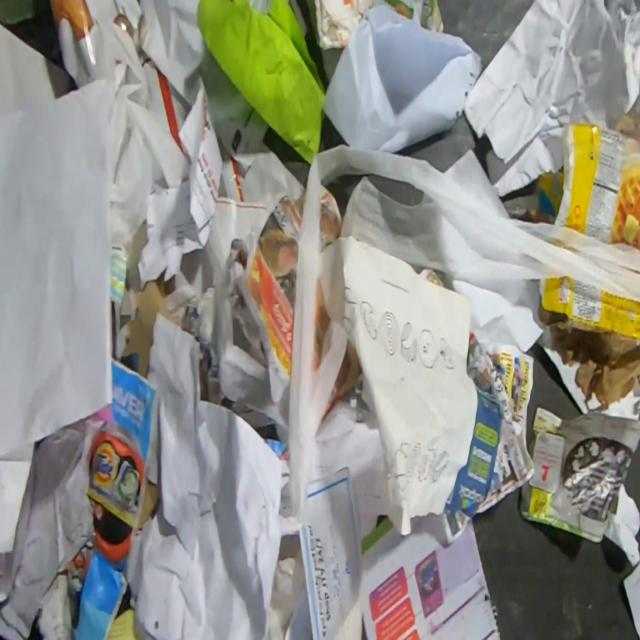cardboard: (527, 112, 640, 252), (536, 275, 640, 412)
